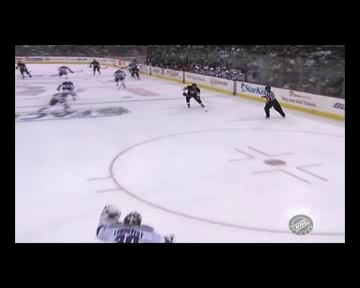normal: (178, 76, 210, 115), (110, 61, 130, 94), (87, 57, 103, 79)
